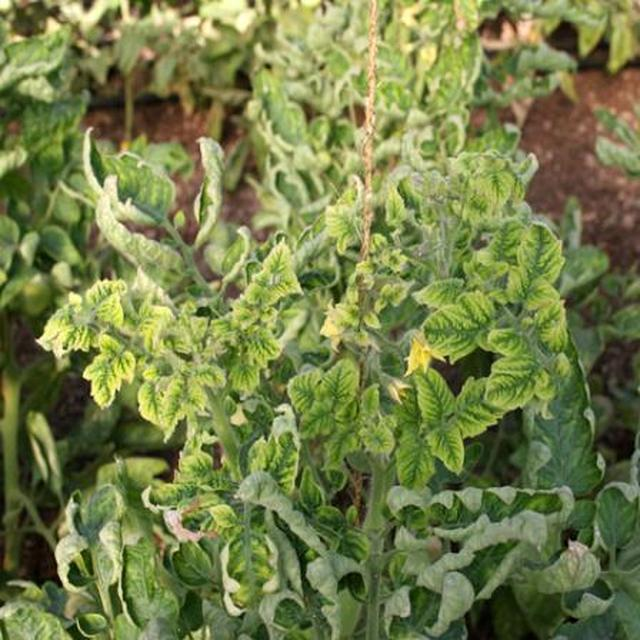Yellow Leaf Curl Virus: (48, 45, 640, 640)
